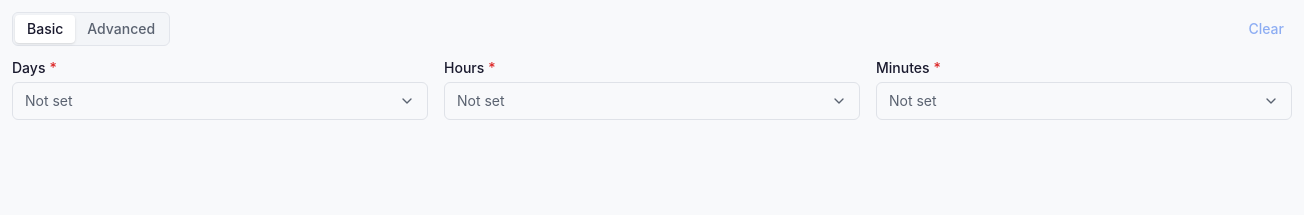
Scenario: CronScheduleEditor › describes a typed expression and flags an invalid one in Advanced mode
Click the button "Advanced" at [121, 29], box [75,15,167,43]
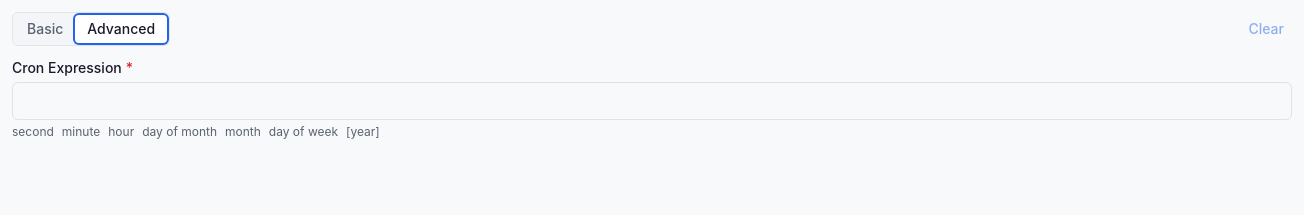
Type "0 30 8 ? * MON-FRI" into the field labelled "Cron Expression*" at [652, 101], box [12,82,1292,120]
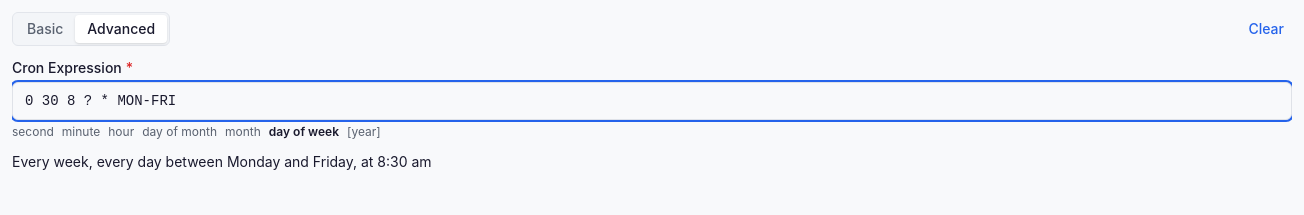
Result: the text "Every week, every day between Monday and Friday, at 8:30 am" is shown at [12,153,432,170]
Replace the text in the field labelled "Cron Expression*" with "0 75 8 * * ?" at [652, 101], box [12,82,1292,120]
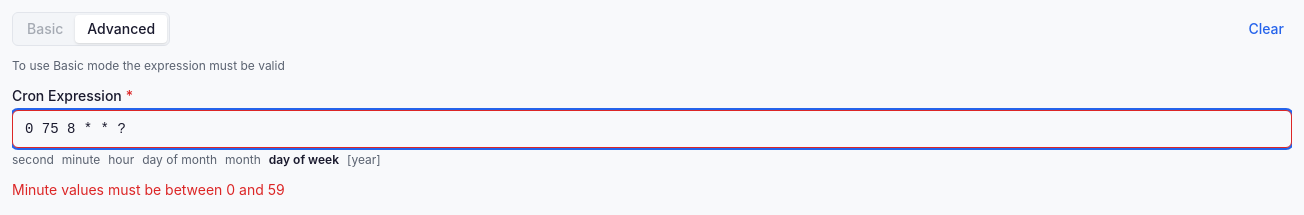
Result: the text "Minute values must be between 0 and 59" is shown at [12,181,285,198]
